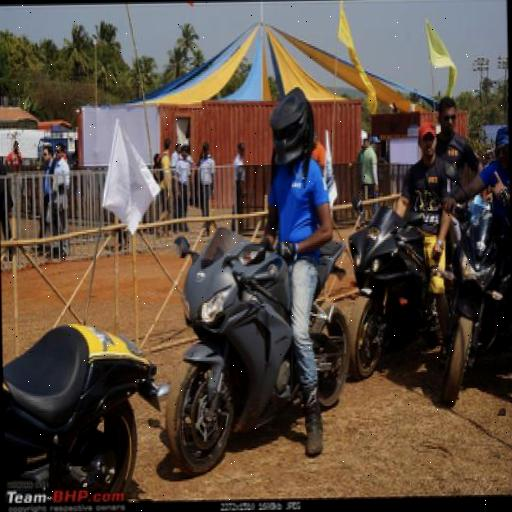helmet: (155, 72, 338, 464)
no helmet: (344, 103, 452, 372)
